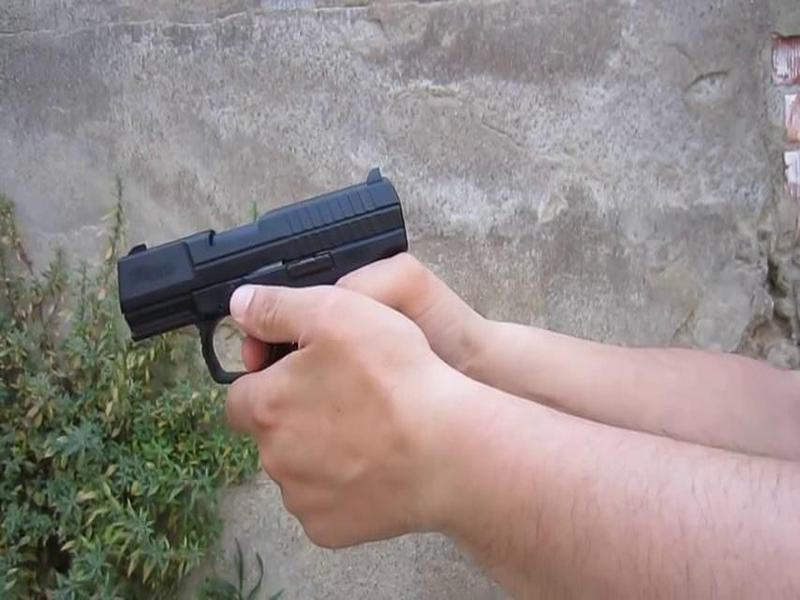Pistola: (100, 153, 458, 440)
